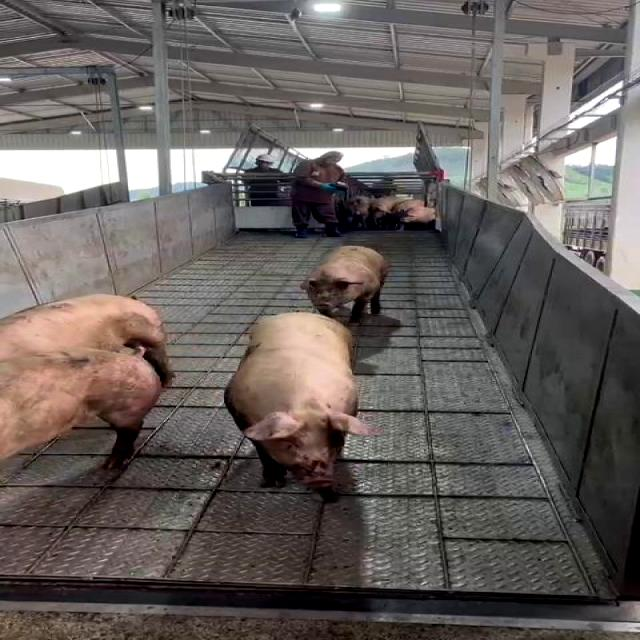pig: (226, 313, 371, 499), (1, 350, 160, 467), (1, 295, 166, 361), (304, 246, 388, 323)
